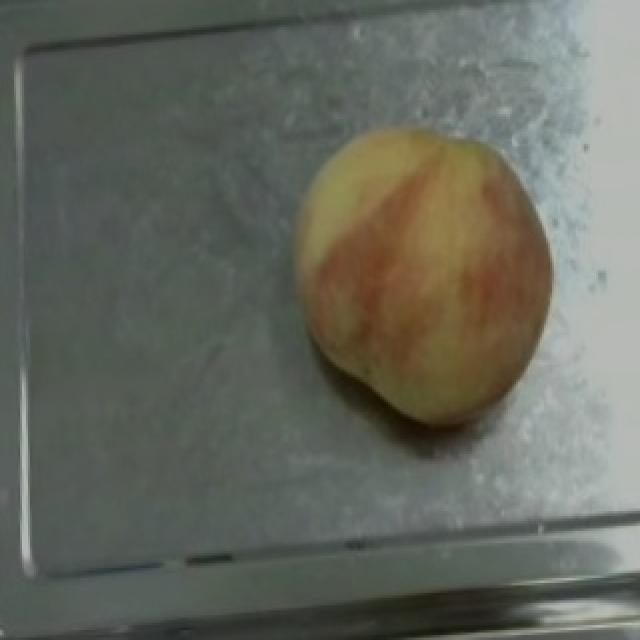Fruit: (268, 114, 574, 444)
